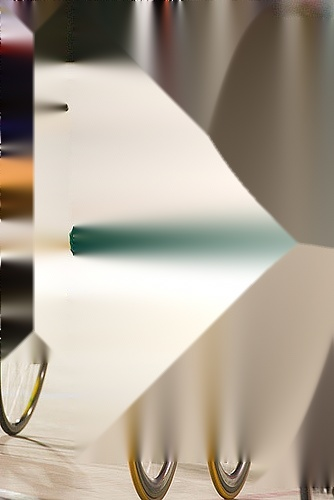bicycle: (70, 202, 255, 500), (251, 242, 334, 500), (1, 144, 67, 436)
